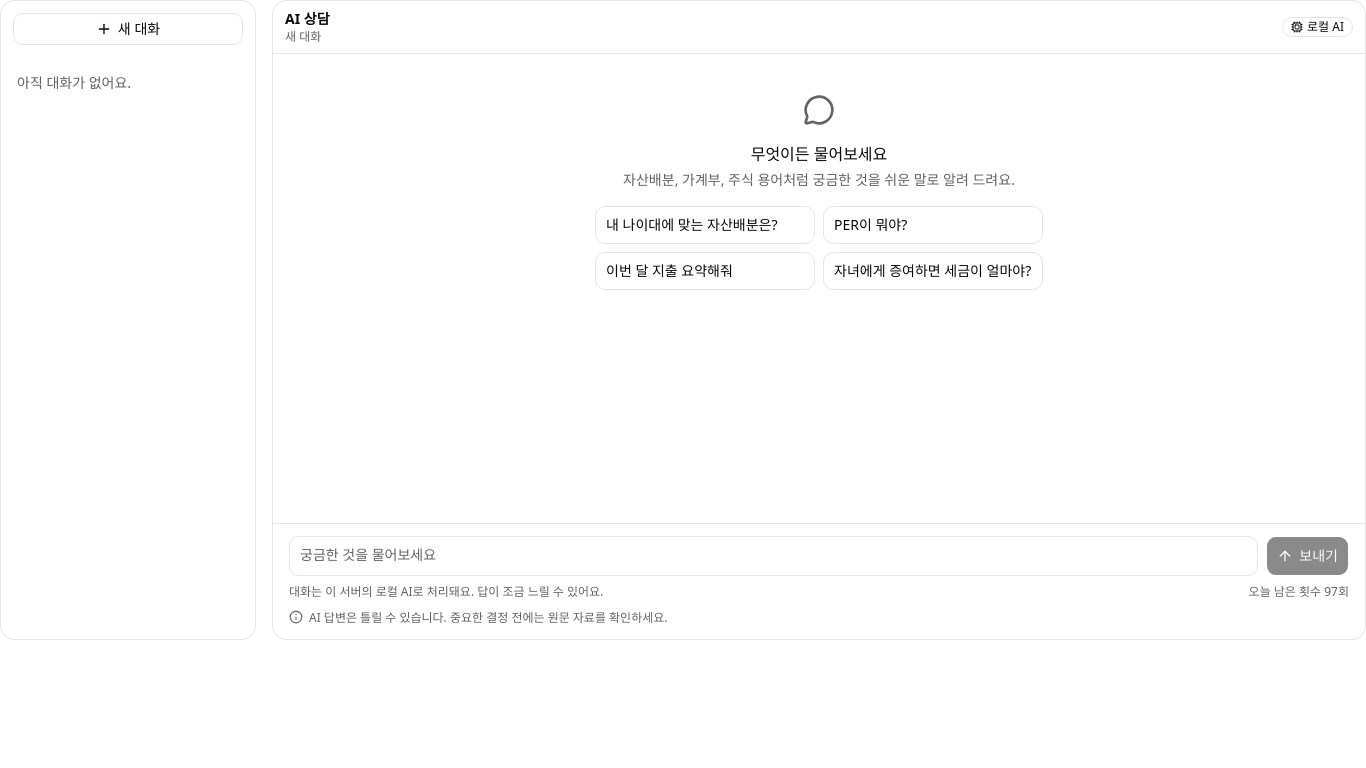
메시지 주고받기 › 에러 이벤트 문구를 보여 준다
Type "질문" into the text box named "질문 입력".
click(774, 556); type("질문")  # box 289,536 -> 1258,576
Then press Enter
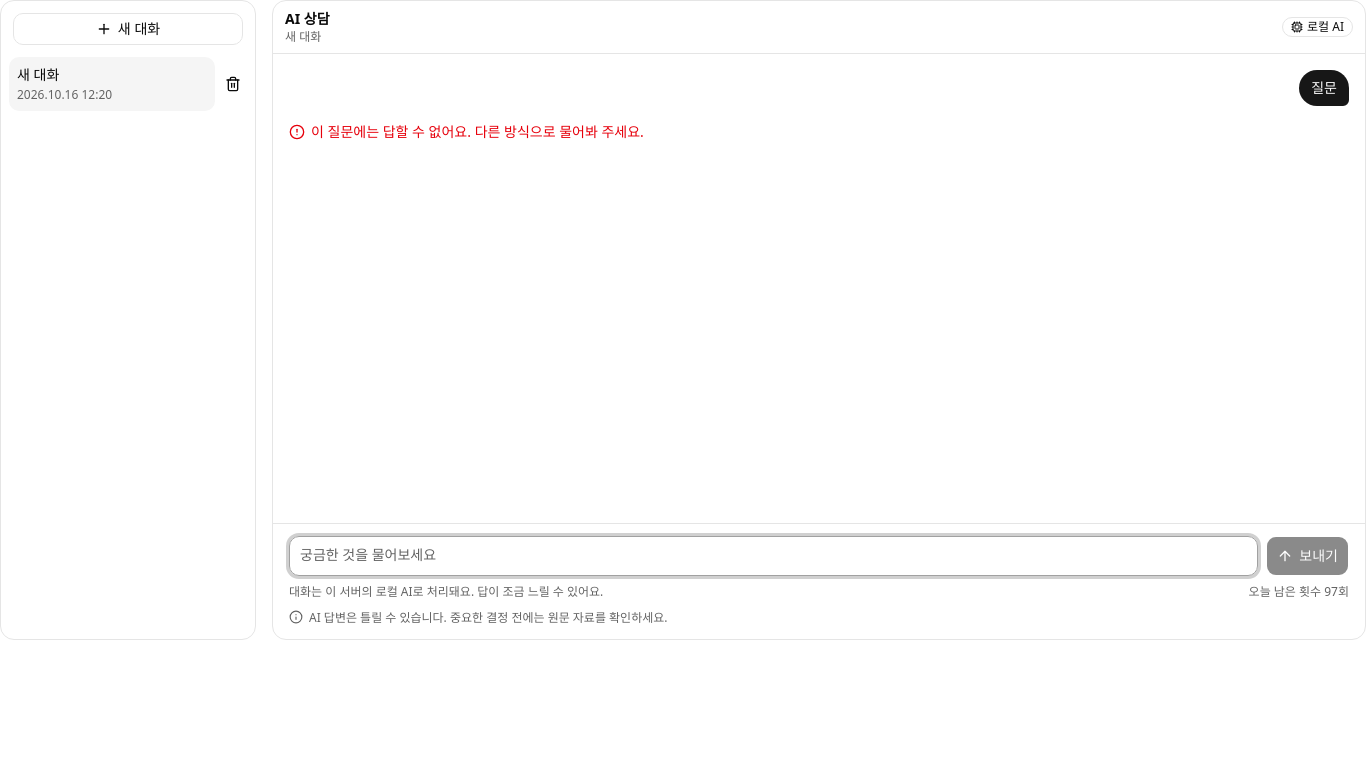
Expected: the text "이 질문에는 답할 수 없어요. 다른 방식으로 물어봐 주세요." is shown, 289,122 -> 644,141
